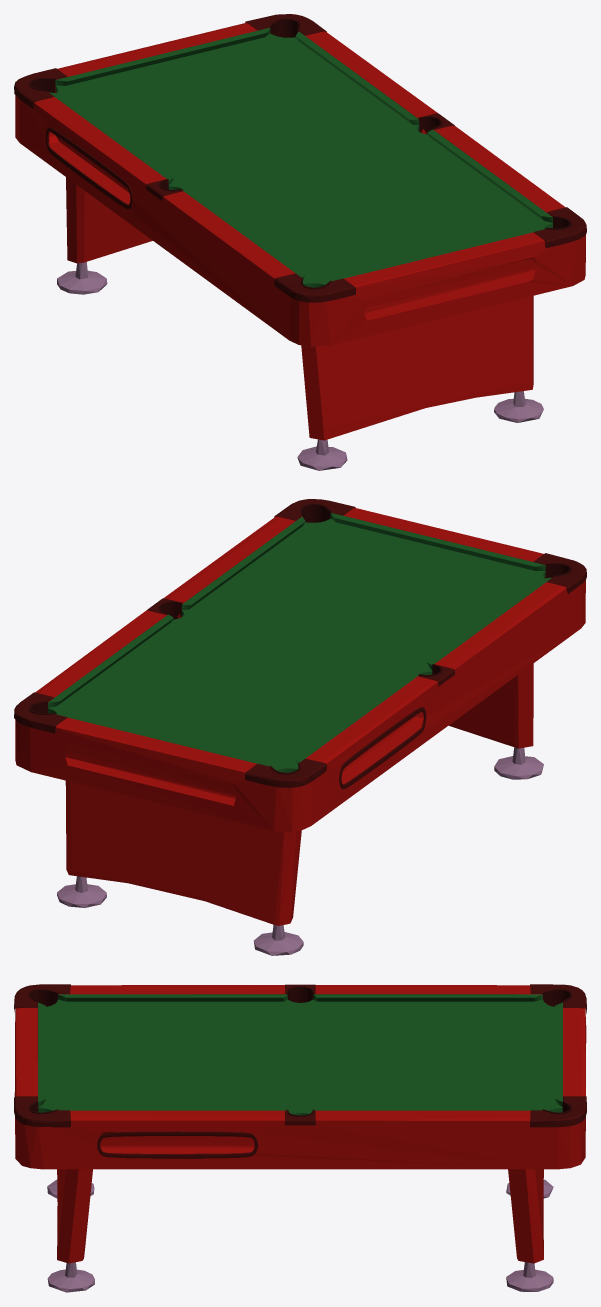
The model's file is PoolTableLowPoly.obj.
The picture shows the model from 3 angles, top to bottom: view 1: azimuth 30°, elevation 25°; view 2: azimuth 150°, elevation 25°; view 3: azimuth 270°, elevation 25°; orthographic projection. The views are drawn at different scales.
Parts seen in each view (by area): view 1: Bed_Cube.002_Material.002, Table_Cube.001_Material.001, Cube_Cube.006_Material.009, Cushion_Cube.003_Material.004, CornerMetalCovers_Cylinder.002_Material.007, Cylinder_Cylinder.005_Material.011, Caushion2_Cube.004_Material.003, CornerPockets_Cylinder.001_Material.008, Circle.002_Circle.002_Material.010; view 2: Bed_Cube.002_Material.002, Table_Cube.001_Material.001, Cube_Cube.006_Material.009, Cushion_Cube.003_Material.004, CornerMetalCovers_Cylinder.002_Material.007, Cylinder_Cylinder.005_Material.011, Caushion2_Cube.004_Material.003, CornerPockets_Cylinder.001_Material.008, Circle.002_Circle.002_Material.010; view 3: Bed_Cube.002_Material.002, Table_Cube.001_Material.001, Cube_Cube.006_Material.009, Cushion_Cube.003_Material.004, CornerMetalCovers_Cylinder.002_Material.007, Cylinder_Cylinder.005_Material.011, Caushion2_Cube.004_Material.003, Circle.001_Circle.000_Material.012, CornerPockets_Cylinder.001_Material.008, SideMetalCover_Cylinder_Material.005, SidePockets_Cylinder.004_Material.006.
Part boxes in pixels (x1=…): Bed_Cube.002_Material.002: x1=55, y1=33, x2=552, y2=287; Table_Cube.001_Material.001: x1=15, y1=14, x2=585, y2=346; Cube_Cube.006_Material.009: x1=66, y1=177, x2=533, y2=440; Cushion_Cube.003_Material.004: x1=49, y1=31, x2=552, y2=279; CornerMetalCovers_Cylinder.002_Material.007: x1=14, y1=14, x2=586, y2=302; Cylinder_Cylinder.005_Material.011: x1=57, y1=262, x2=543, y2=470; Caushion2_Cube.004_Material.003: x1=55, y1=27, x2=544, y2=281; CornerPockets_Cylinder.001_Material.008: x1=29, y1=18, x2=571, y2=289; Circle.002_Circle.002_Material.010: x1=45, y1=127, x2=132, y2=209; Bed_Cube.002_Material.002: x1=48, y1=518, x2=545, y2=772; Table_Cube.001_Material.001: x1=15, y1=507, x2=585, y2=832; Cube_Cube.006_Material.009: x1=65, y1=663, x2=533, y2=925; Cushion_Cube.003_Material.004: x1=48, y1=516, x2=551, y2=765; CornerMetalCovers_Cylinder.002_Material.007: x1=14, y1=499, x2=586, y2=787; Cylinder_Cylinder.005_Material.011: x1=57, y1=747, x2=543, y2=955; Caushion2_Cube.004_Material.003: x1=56, y1=513, x2=545, y2=766; CornerPockets_Cylinder.001_Material.008: x1=29, y1=503, x2=571, y2=774; Circle.002_Circle.002_Material.010: x1=339, y1=707, x2=426, y2=788; Bed_Cube.002_Material.002: x1=38, y1=999, x2=562, y2=1115; Table_Cube.001_Material.001: x1=14, y1=985, x2=586, y2=1169; Cube_Cube.006_Material.009: x1=57, y1=1169, x2=543, y2=1263; Cushion_Cube.003_Material.004: x1=58, y1=994, x2=542, y2=1110; CornerMetalCovers_Cylinder.002_Material.007: x1=14, y1=984, x2=586, y2=1127; Cylinder_Cylinder.005_Material.011: x1=47, y1=1179, x2=553, y2=1292; Caushion2_Cube.004_Material.003: x1=38, y1=1002, x2=562, y2=1106; Circle.001_Circle.000_Material.012: x1=97, y1=1131, x2=258, y2=1158; CornerPockets_Cylinder.001_Material.008: x1=28, y1=989, x2=572, y2=1113; SideMetalCover_Cylinder_Material.005: x1=285, y1=984, x2=315, y2=1125; SidePockets_Cylinder.004_Material.006: x1=287, y1=986, x2=313, y2=1116.
Bounding box in the file's own units: 1.38 × 0.8647 × 2.42.
